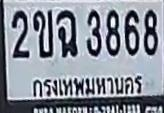2: (11, 10, 29, 58)
3: (86, 9, 101, 56)
6: (124, 9, 139, 55)
8: (105, 9, 120, 56), (143, 9, 157, 55)
A02: (32, 9, 52, 57)
A09: (56, 9, 77, 57)
BKK: (27, 73, 145, 98)
